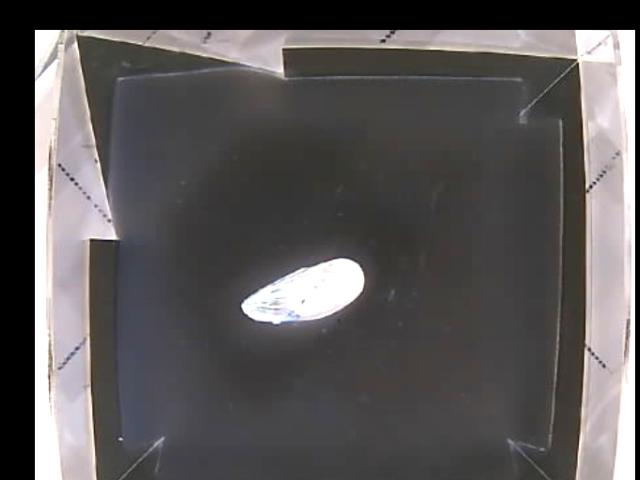Shell: (241, 258, 365, 325)
